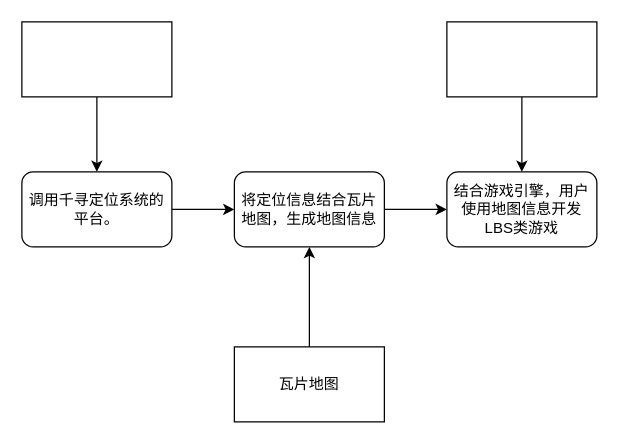
Some shapes in this 619 by 444 pixel diagram are drawn without their labels. The shapes that lost their labels are listed below. From the top down, each one's centre as x and y in pixels, then its label:
At (x=96, y=59): "千寻定位系统".
At (x=521, y=59): "游戏引擎".
